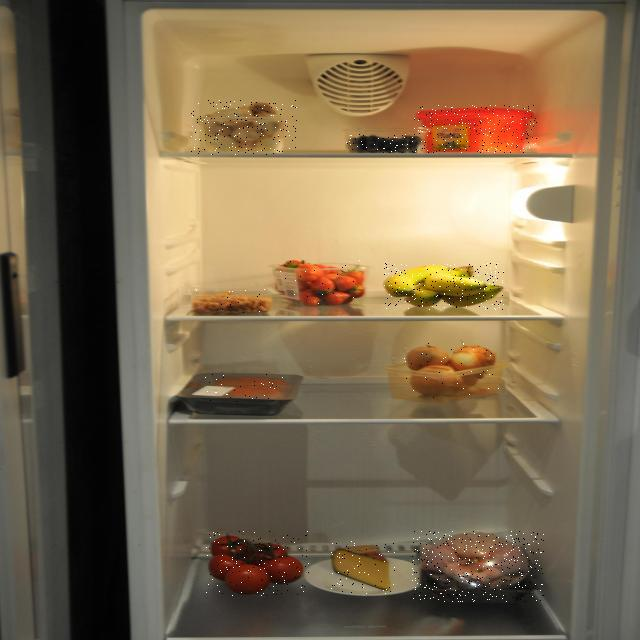banana: (384, 263, 504, 310)
beef: (201, 374, 283, 402)
blueberries: (345, 134, 432, 153)
butter: (414, 105, 537, 154)
cheese: (331, 541, 395, 594)
chicken: (412, 531, 544, 602)
mushrooms: (191, 100, 297, 155)
onion: (401, 343, 499, 398)
shrimp: (192, 289, 272, 316)
strawberries: (272, 260, 368, 305)
tomato: (206, 531, 309, 597)
